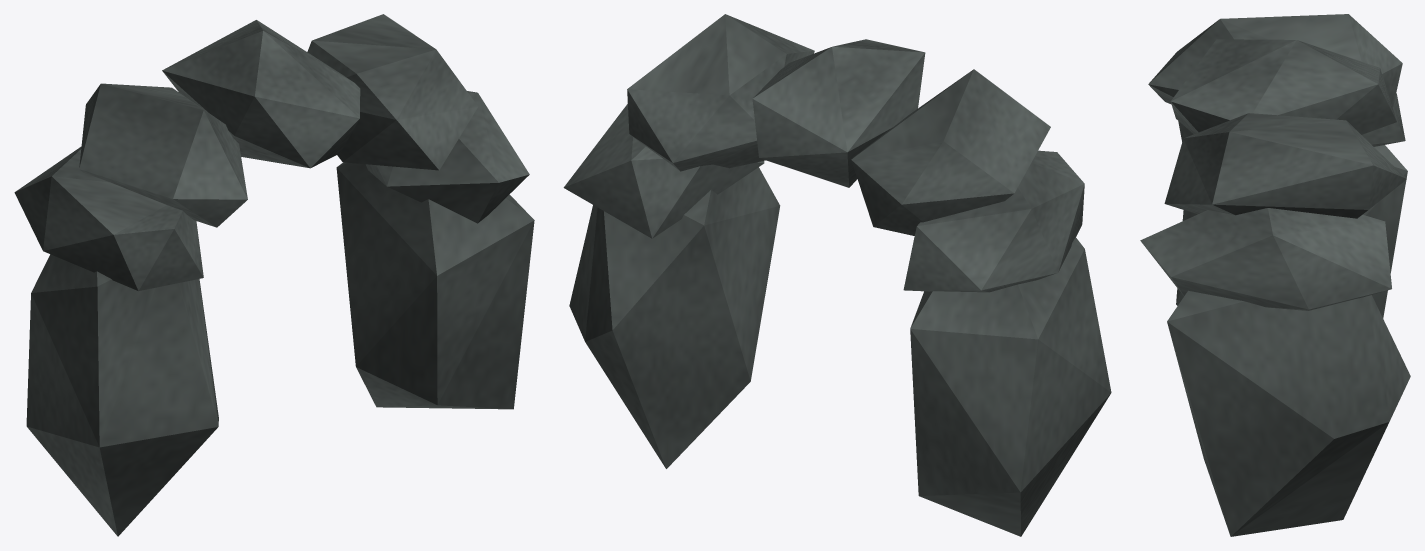
File: rocks.sea_cave.lod2.glb
The picture shows the model from 3 angles, left to right: view 1: azimuth 30°, elevation 25°; view 2: azimuth 150°, elevation 25°; view 3: azimuth 270°, elevation 25°; orthographic projection. The views are drawn at different scales.
Parts seen in each view (by area): view 1: ArchPier, ArchPier.001, ArchCrown.002, ArchCrown.003, ArchCrown.001, ArchCrown.004, ArchCrown; view 2: ArchPier, ArchPier.001, ArchCrown.003, ArchCrown.002, ArchCrown.001, ArchCrown.004, ArchCrown; view 3: ArchPier.001, ArchCrown, ArchCrown.001, ArchCrown.002, ArchCrown.003, ArchPier, ArchCrown.004.
Part boxes in pixels (x1,y1,x2,y2): ArchPier: (26,254,218,536); ArchPier.001: (336,162,534,409); ArchCrown.002: (162,20,360,168); ArchCrown.003: (79,83,247,227); ArchCrown.001: (307,14,478,170); ArchCrown.004: (14,146,203,290); ArchCrown: (366,91,529,223); ArchPier: (910,237,1111,536); ArchPier.001: (569,167,780,468); ArchCrown.003: (851,69,1050,235); ArchCrown.002: (752,39,925,187); ArchCrown.001: (627,14,814,171); ArchCrown.004: (903,150,1084,292); ArchCrown: (563,103,764,238); ArchPier.001: (1167,290,1410,536); ArchCrown: (1140,208,1391,310); ArchCrown.001: (1164,113,1406,218); ArchCrown.002: (1170,39,1396,134); ArchCrown.003: (1148,14,1402,107); ArchPier: (1176,145,1407,318); ArchCrown.004: (1178,93,1405,146).
Size of the model in its own units: 10.25 by 9.68 by 5.42.
Materials: 1 (1 with a texture image).
